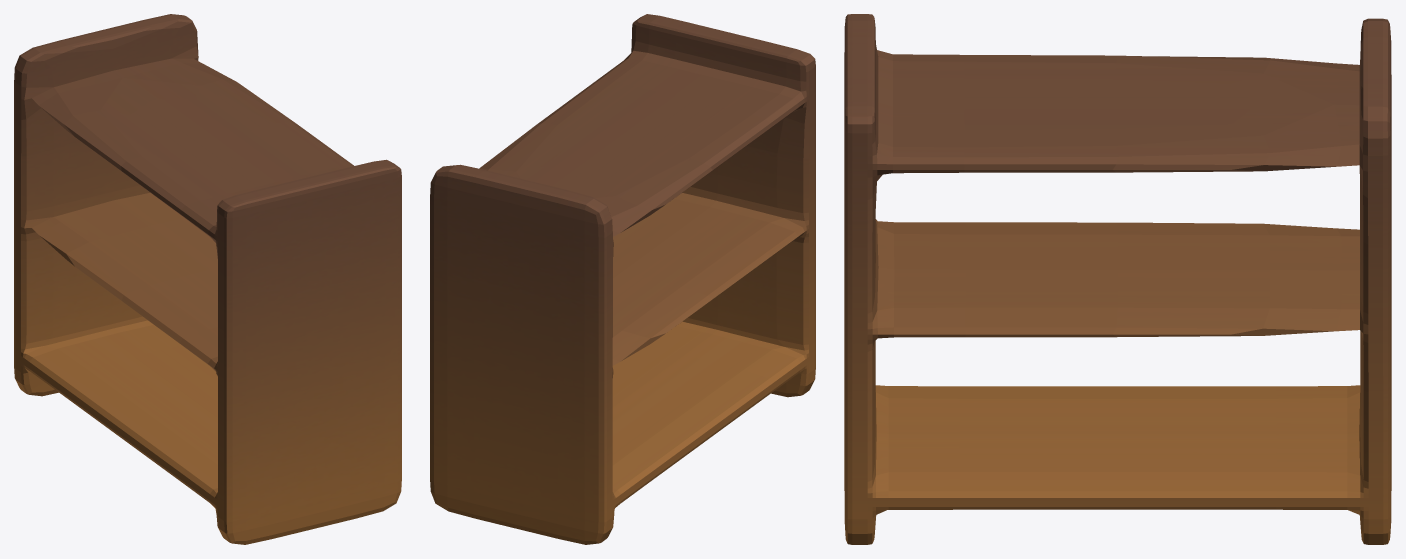
File: shelves.fbx
3 views of the same model, side by side, from view 1: azimuth 30°, elevation 25°; view 2: azimuth 150°, elevation 25°; view 3: azimuth 270°, elevation 25° (orthographic). The views are drawn at different scales.
Visible parts, largest first — view 1: Cube; view 2: Cube; view 3: Cube.
Boxes of the visible parts, x1,y1,x2,y2 form: Cube: (14,14,401,544); Cube: (430,14,815,544); Cube: (844,14,1391,544).
Bounding box in the file's own units: 38.98 × 72.62 × 82.26.
